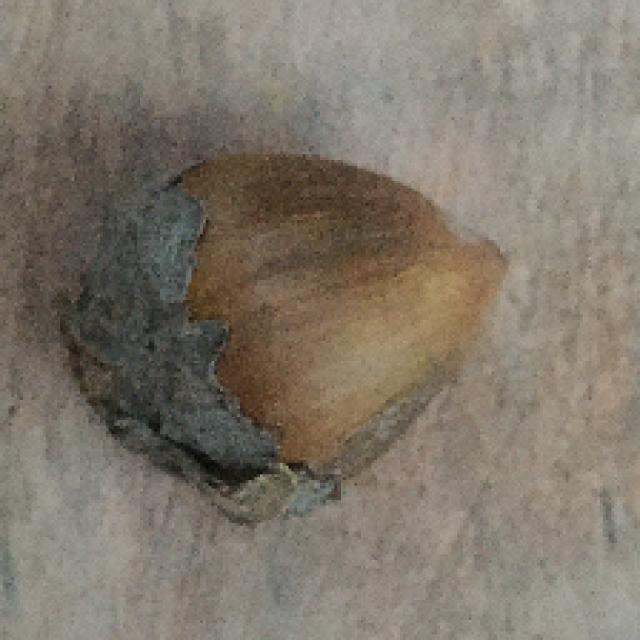damagedHazelnut: (49, 141, 518, 527)
